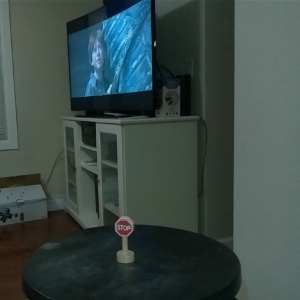stop sign: (112, 215, 137, 265)
